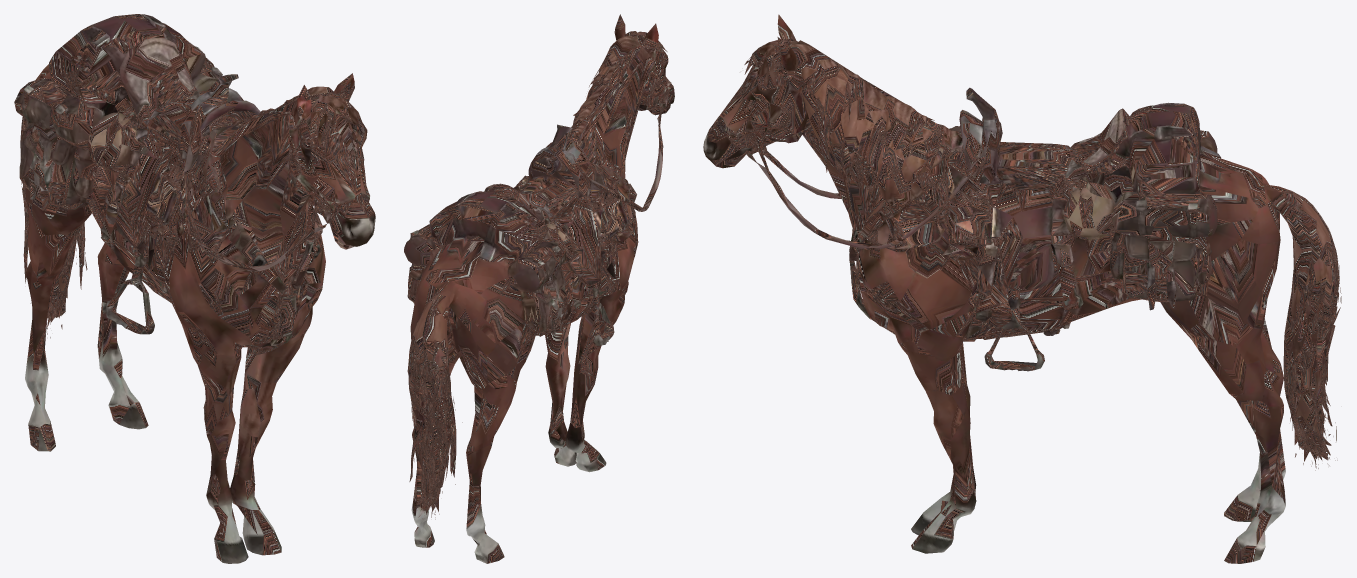
File: lib_horse.lod.glb
3 renders of one model, left to right at view 1: azimuth 30°, elevation 25°; view 2: azimuth 150°, elevation 25°; view 3: azimuth 270°, elevation 25°, orthographic. The views are drawn at different scales.
Size of the model in its own units: 0.6158 by 1.68 by 1.88.
1 material, 1 textured.
